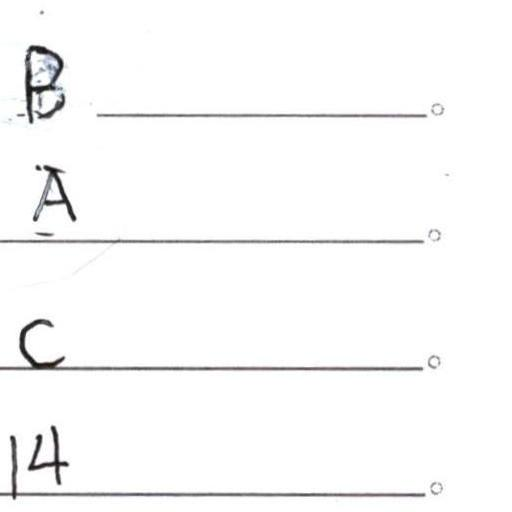ans: (5, 422, 69, 496), (15, 35, 67, 124), (16, 317, 67, 370), (32, 164, 76, 224)
